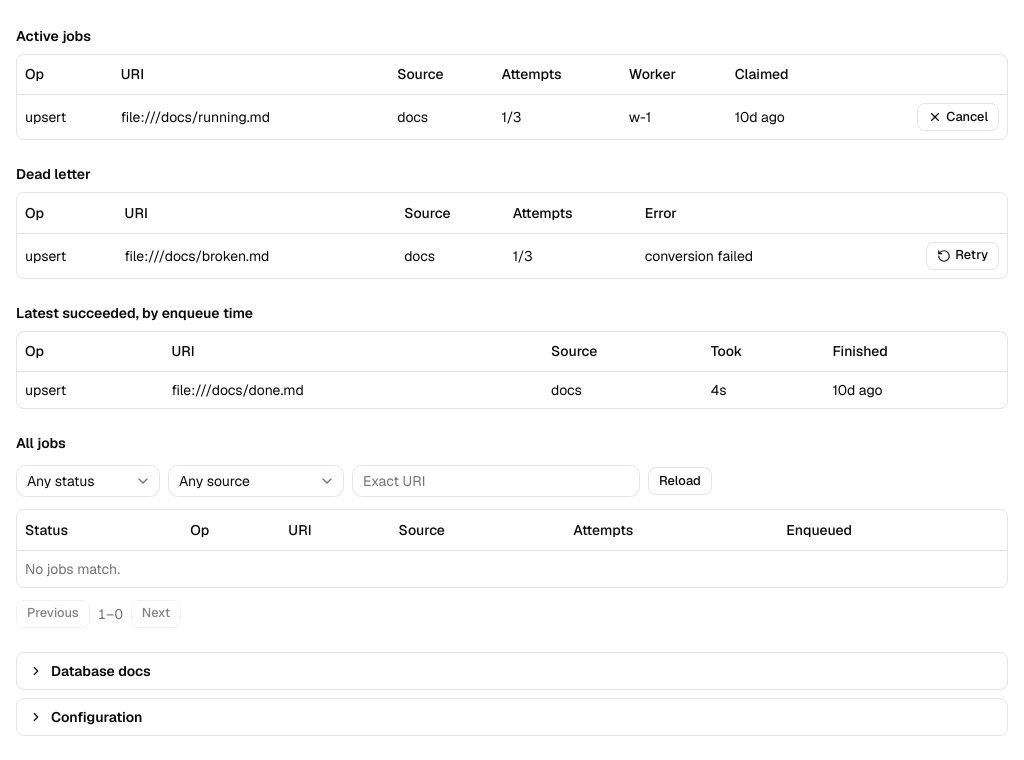
Test: IngestionPage › reads a database's info when its panel opens
(page scrolled)
Click the button "Database docs": (101, 670) [17,652,1007,688]
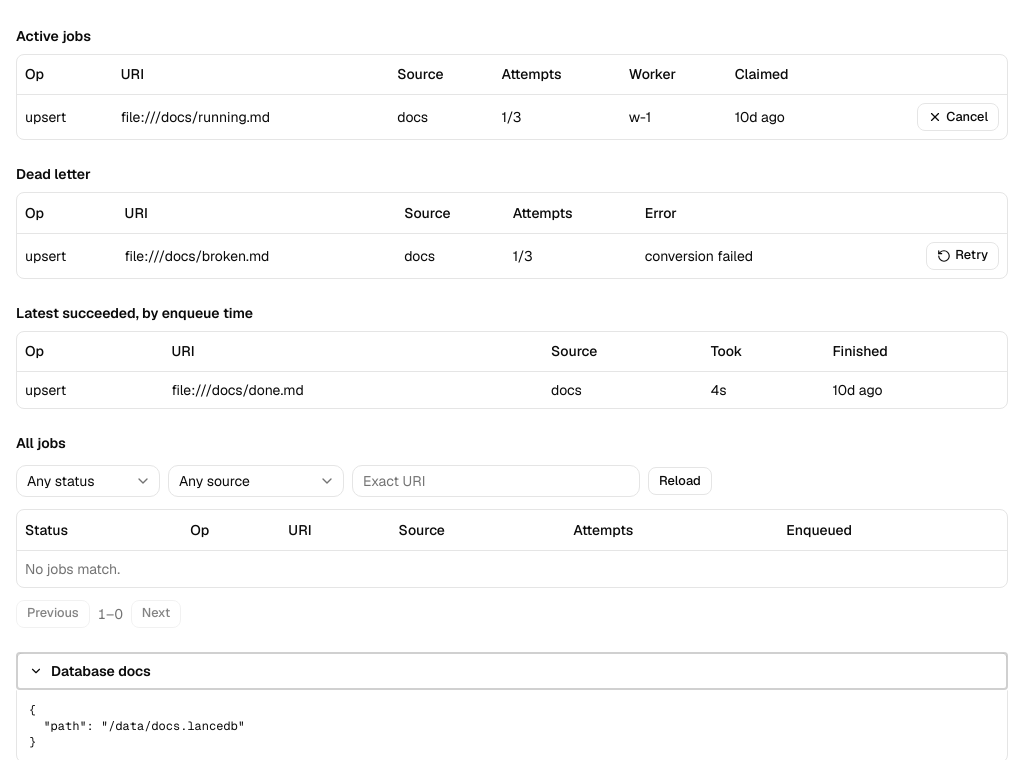
Check: the text "{ \"path\": \"/data/docs.lancedb\" }" is shown, box [29,702,245,750]
